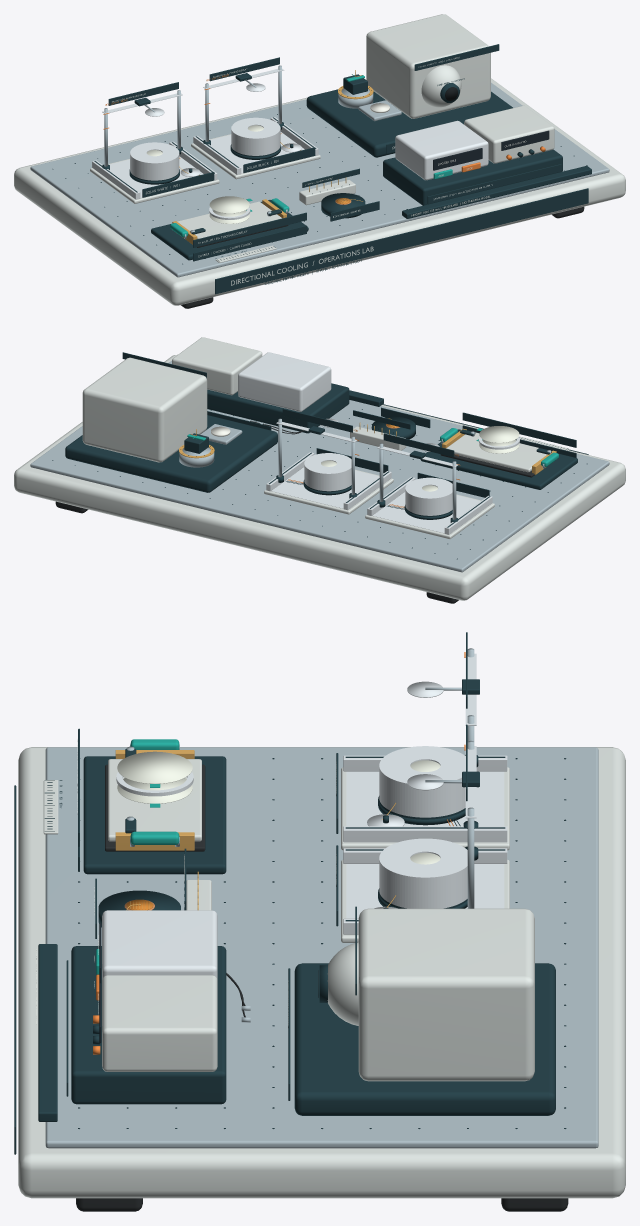
File: cooling_operations_lab.glb
3 views of the same model, one above another, from view 1: azimuth 30°, elevation 25°; view 2: azimuth 150°, elevation 25°; view 3: azimuth 270°, elevation 25° (orthographic). The views are drawn at different scales.
Visible parts, largest first — view 1: bench.inset, bench.top, optical.housing, bench.title.plate, optical.base, console.base, logger.housing, sourcemeter.housing, boundary.card, carrier.tray, dock.base, console.caption.plate (+27 smaller); view 2: bench.inset, bench.top, optical.housing, optical.base, logger.housing, console.base, sourcemeter.housing, dock.base, carrier.tray, white.mylar_base_visual, black.mylar_base_visual, handling.caption.plate (+21 smaller); view 3: bench.inset, bench.top, optical.housing, optical.base, sourcemeter.housing, console.base, dock.base, logger.housing, carrier.tray, white.mylar_base_visual, boundary.card, black.mylar_base_visual (+21 smaller).
Boxes of the visible parts, x1,y1,x2,y2 form: bench.inset: (30,82,609,277); bench.top: (14,78,625,305); optical.housing: (366,14,490,118); bench.title.plate: (215,188,588,294); optical.base: (306,89,512,157); console.base: (383,149,562,205); logger.housing: (395,120,488,180); sourcemeter.housing: (464,105,554,163); boundary.card: (402,165,591,218); carrier.tray: (177,201,281,238); dock.base: (151,200,308,260); console.caption.plate: (427,164,561,204); bench.inset: (30,361,609,572); bench.top: (14,354,625,600); optical.housing: (82,357,207,462); optical.base: (65,415,277,492); logger.housing: (238,352,331,411); console.base: (207,383,349,433); sourcemeter.housing: (172,337,262,395); dock.base: (420,429,577,489); carrier.tray: (446,432,547,472); white.mylar_base_visual: (372,492,480,533); black.mylar_base_visual: (271,467,379,508); handling.caption.plate: (462,412,576,447); bench.inset: (45,747,598,1148); bench.top: (18,747,625,1198); optical.housing: (358,908,534,1081); optical.base: (294,963,555,1115); sourcemeter.housing: (102,975,217,1071); console.base: (71,946,226,1104); dock.base: (83,756,226,874); logger.housing: (102,910,217,980); carrier.tray: (108,759,201,841); white.mylar_base_visual: (346,771,504,826); boundary.card: (38,944,57,1121); black.mylar_base_visual: (346,864,504,918).
Size of the model in its own units: 1.62 by 0.4383 by 1.01.
